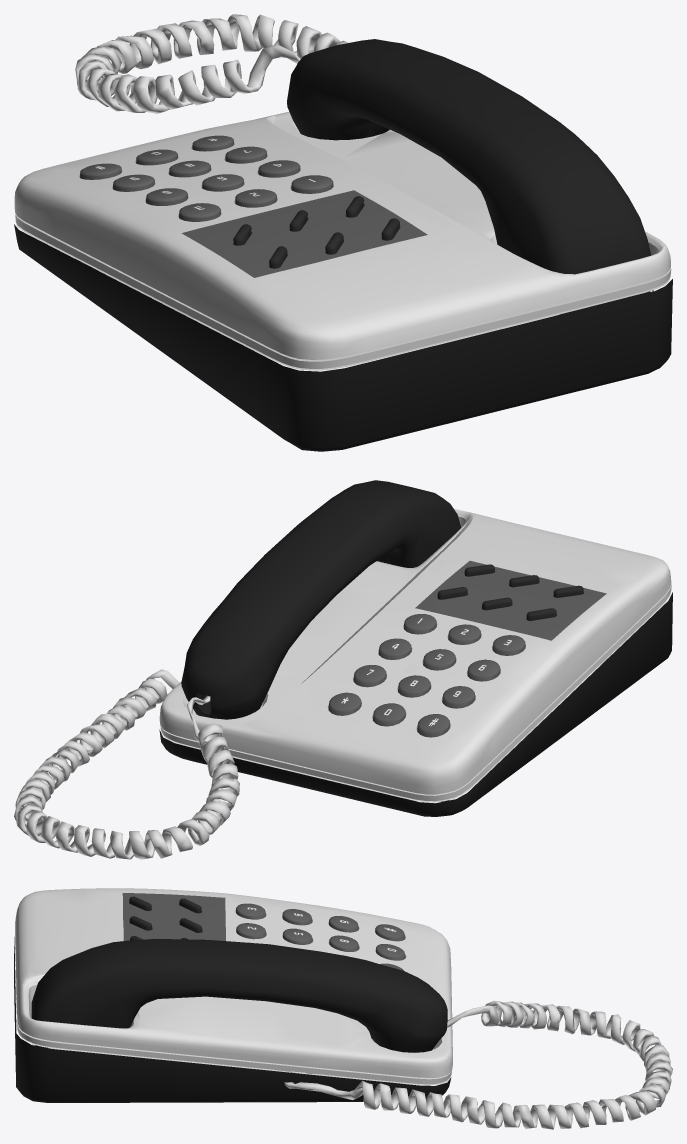
The model's file is telephone-1.glb.
3 views of the same model, one above another, from view 1: azimuth 30°, elevation 25°; view 2: azimuth 150°, elevation 25°; view 3: azimuth 270°, elevation 25° (orthographic). The views are drawn at different scales.
Visible parts, largest first — view 1: Telephone_Material #57_0; view 2: Telephone_Material #57_0; view 3: Telephone_Material #57_0.
Part boxes in pixels (x1=…): Telephone_Material #57_0: x1=14, y1=14, x2=672, y2=451; Telephone_Material #57_0: x1=14, y1=480, x2=672, y2=859; Telephone_Material #57_0: x1=14, y1=888, x2=672, y2=1129.
Size of the model in its own units: 241 by 97.99 by 420.
1 material, 1 textured.
